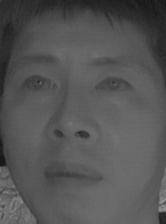eye: (92, 73, 134, 98), (18, 71, 59, 96)
mouth: (42, 155, 100, 193)
